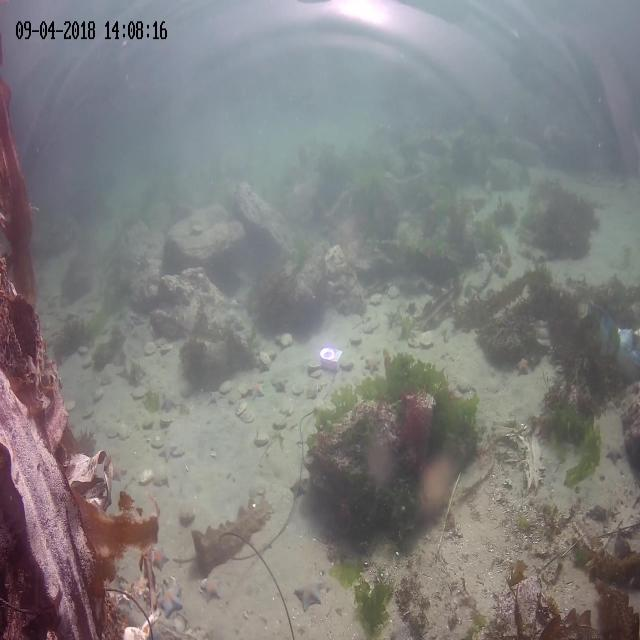scallop: (179, 504, 198, 526), (258, 347, 273, 373), (362, 315, 381, 334), (99, 364, 115, 386), (339, 354, 355, 374), (278, 330, 294, 350), (420, 330, 434, 351), (131, 385, 147, 403), (140, 467, 156, 485), (218, 380, 236, 396), (386, 283, 400, 303), (369, 288, 383, 308), (272, 416, 289, 432), (306, 357, 322, 373), (106, 423, 120, 441), (116, 423, 130, 441), (81, 404, 96, 420), (240, 410, 256, 425), (254, 431, 268, 448), (144, 341, 158, 357)
starfish: (294, 577, 324, 614), (156, 583, 182, 621), (200, 573, 222, 604), (290, 472, 310, 504), (150, 545, 168, 573), (107, 459, 127, 483), (606, 439, 622, 465), (160, 388, 177, 412), (364, 355, 382, 377), (514, 357, 532, 379), (158, 441, 178, 460), (248, 381, 266, 400), (208, 388, 225, 408), (274, 376, 290, 395), (152, 470, 168, 489)
